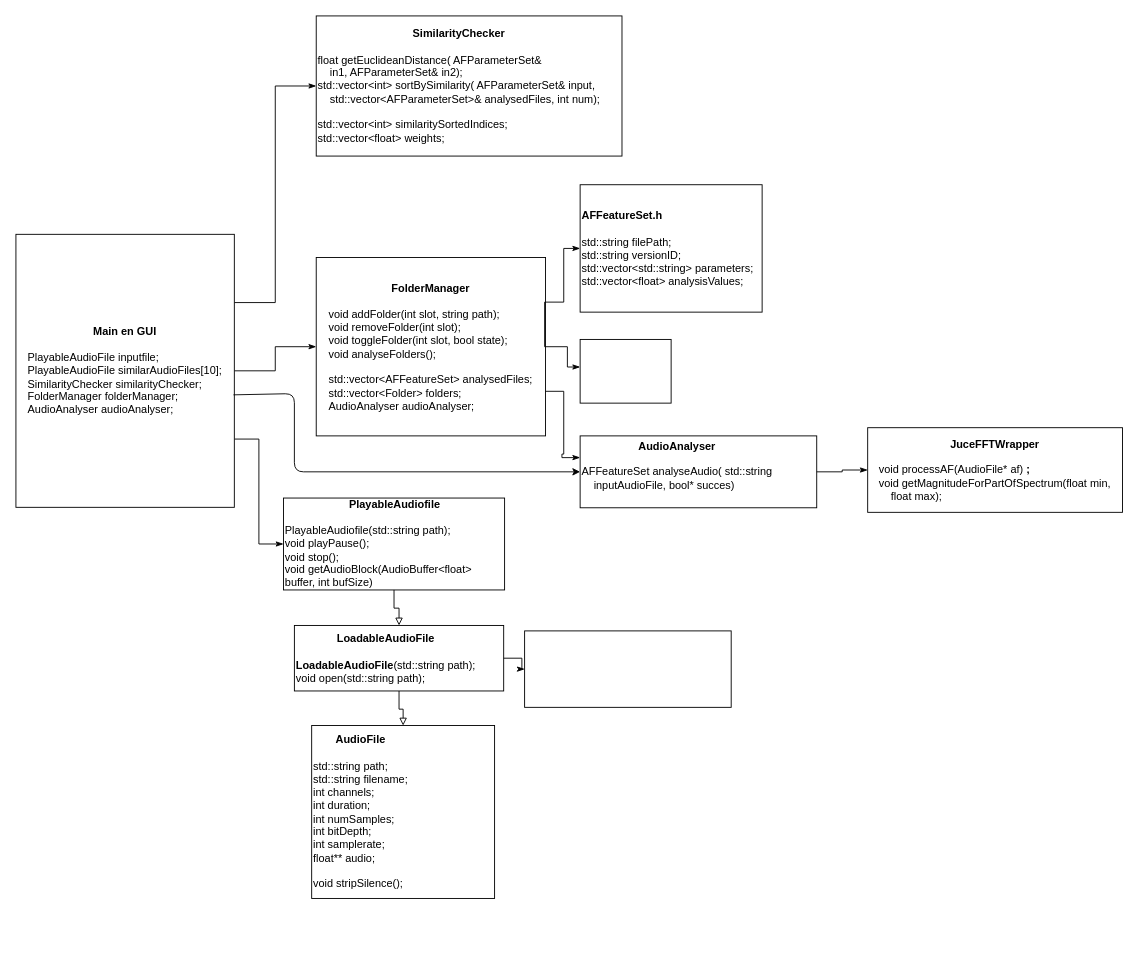
This 1138x960 diagram has some shape labels left out. The centre of each missing label's shape, as x and y in pixels:
"Folder std::string path; bool enabled;" belongs at point (625, 371).
"JuceAudioFileOpener open(AudioFile* af, std::string fullpath);" belongs at point (627, 668).
